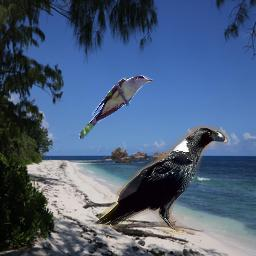Crow: (92, 126, 228, 235)
Cuckoo: (79, 75, 153, 139)
